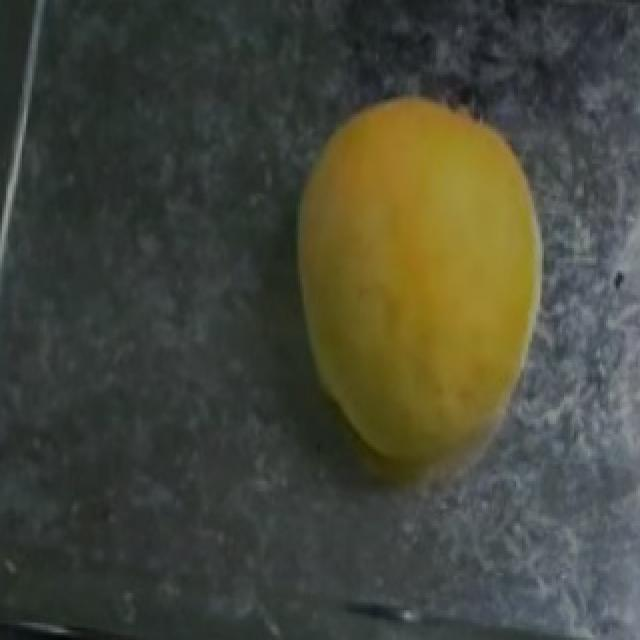fruit: (252, 72, 610, 466)
